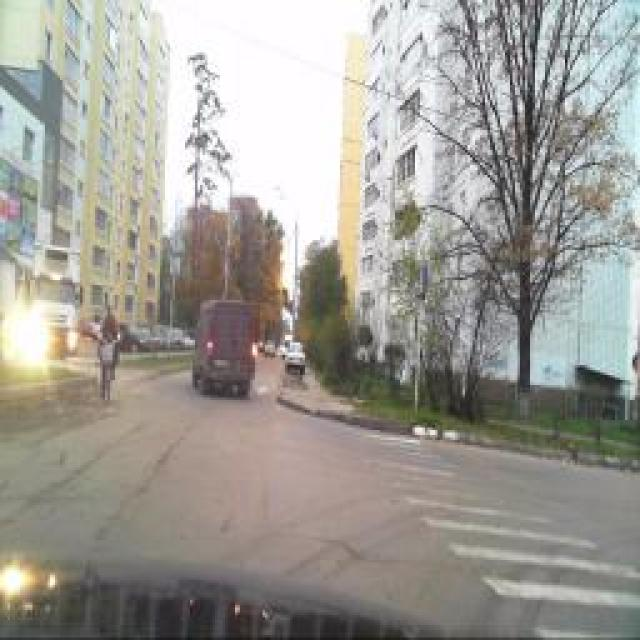sign: (417, 265, 425, 300)
